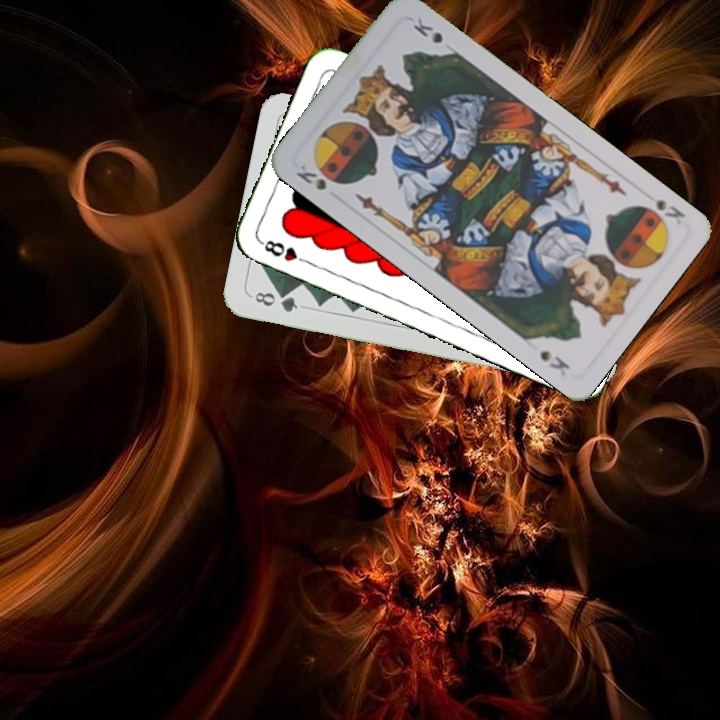G8: (250, 288, 301, 315)
H8: (256, 236, 313, 267)
SK: (635, 195, 688, 229), (292, 160, 329, 193)
